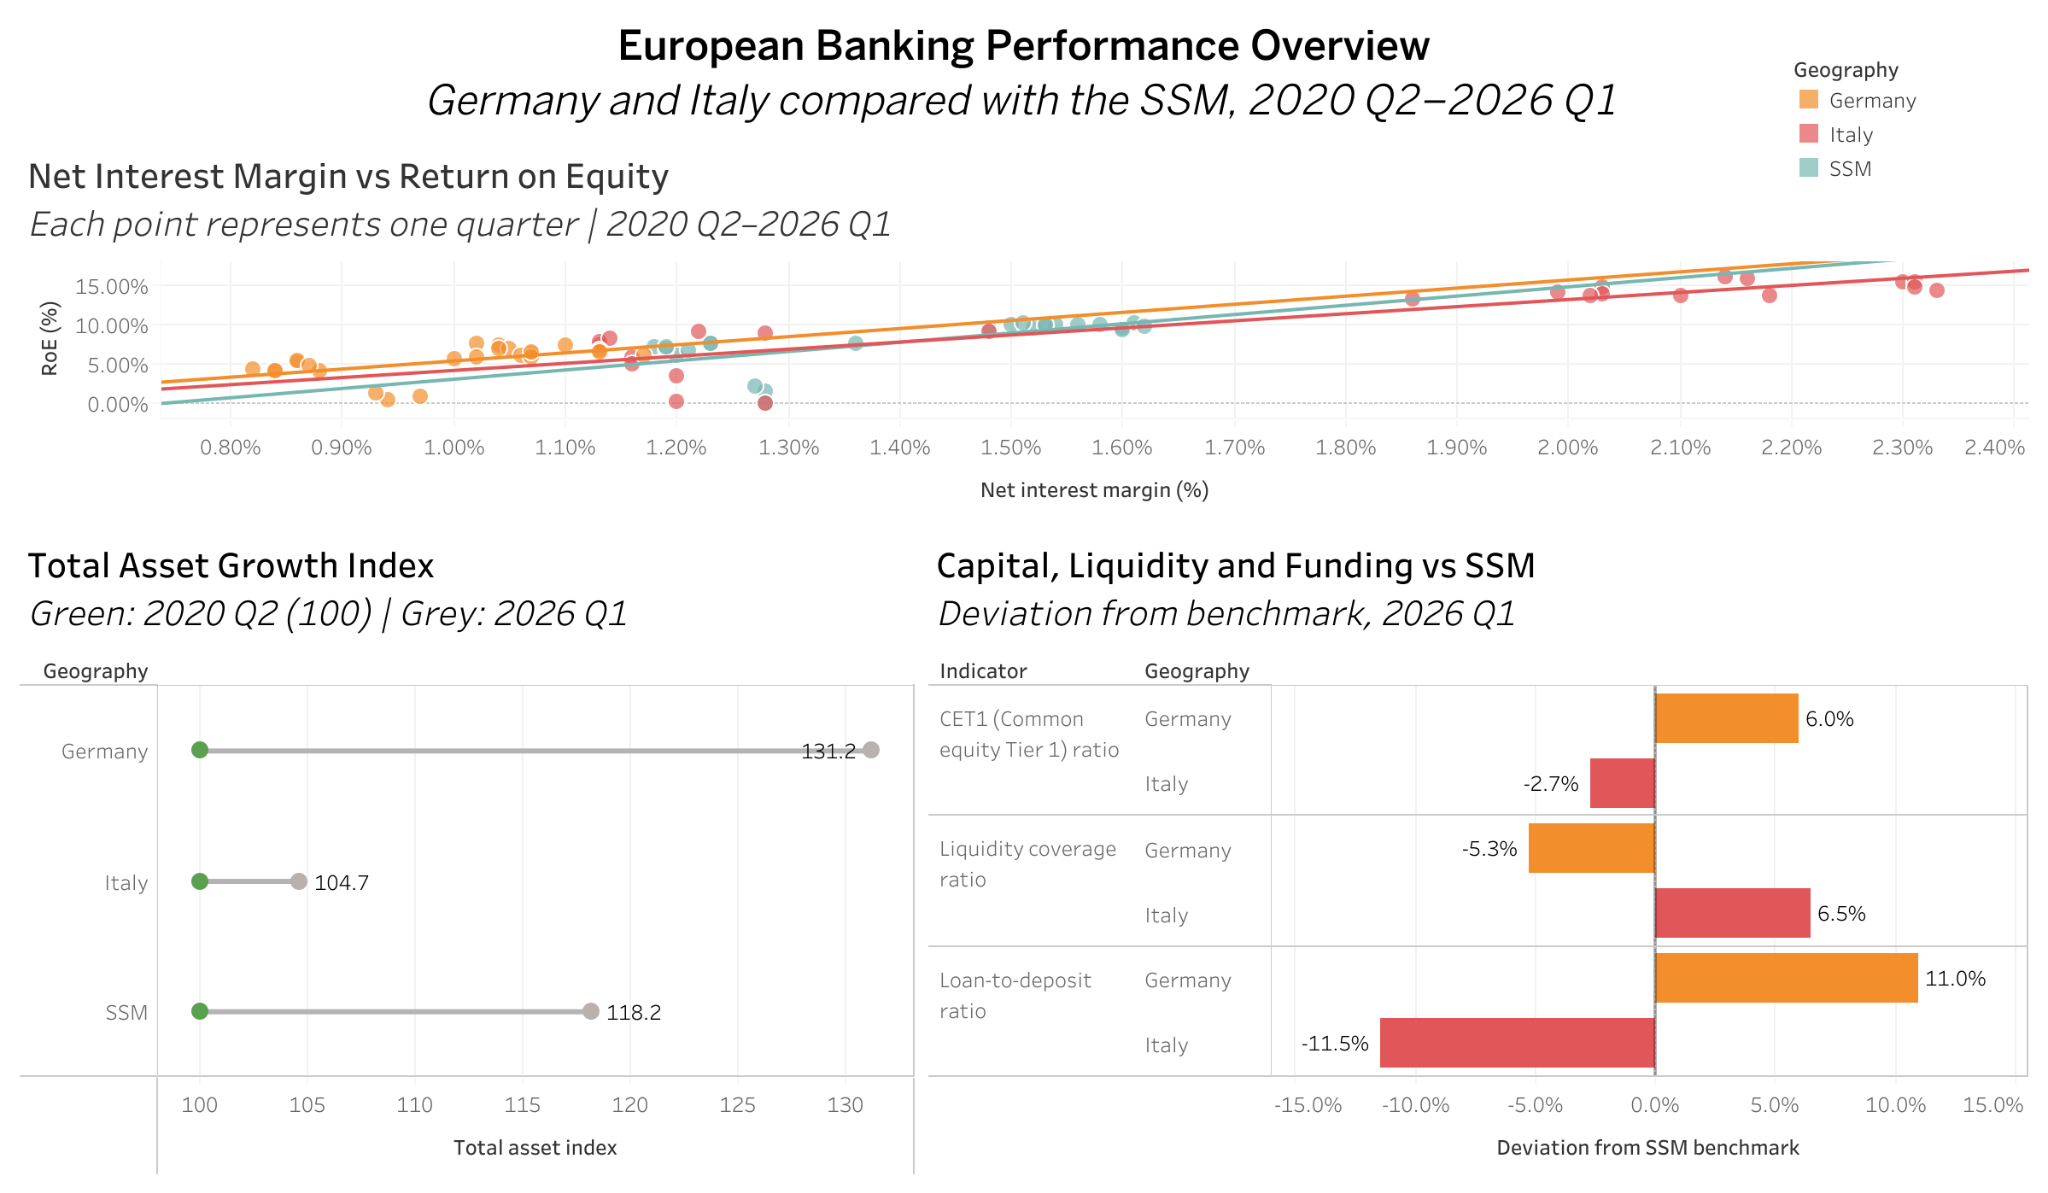

The dashboard page shown, as its layout file describes it:
{"tool":"tableau","page":{"name":"Banking Performance Overview","canvas":[1200,700],"ordinal":0},"visuals":[{"type":"title","box":[8,8,1184,68]},{"type":"legend","title":"Profitability Relationship","param":"[federated.1qrfjae0o8ywro1ekrkwl0wuycis].[none:Calculation_1448374641950722:nk]","box":[1049,29,140,78]},{"type":"worksheet","title":"Profitability Relationship","mark":"Circle","rows":["Calculation_1448374661328902"],"cols":["Calculation_1448374661271557"],"box":[8,76,1184,226]},{"type":"worksheet","title":"Asset Growth","mark":"Line","rows":["Calculation_1448374641950722"],"box":[8,302,532,390]},{"type":"worksheet","title":"Financial Profile","mark":"Bar","rows":["Calculation_1448374642003971","Calculation_1448374641950722"],"cols":["Calculation_0061684607381511"],"box":[540,302,652,390]}]}

Visuals, with their boxes in screenshot pixels (x1, y1, x2, y2), scaled from the page's 1200x700 canvas onto the 2048x1193 screenshot:
title: l=14, t=14, r=2034, b=130
"Profitability Relationship" legend: l=1790, t=49, r=2029, b=182
"Profitability Relationship" worksheet (Circle marks): l=14, t=130, r=2034, b=515
"Asset Growth" worksheet (Line marks): l=14, t=515, r=922, b=1179
"Financial Profile" worksheet (Bar marks): l=922, t=515, r=2034, b=1179
